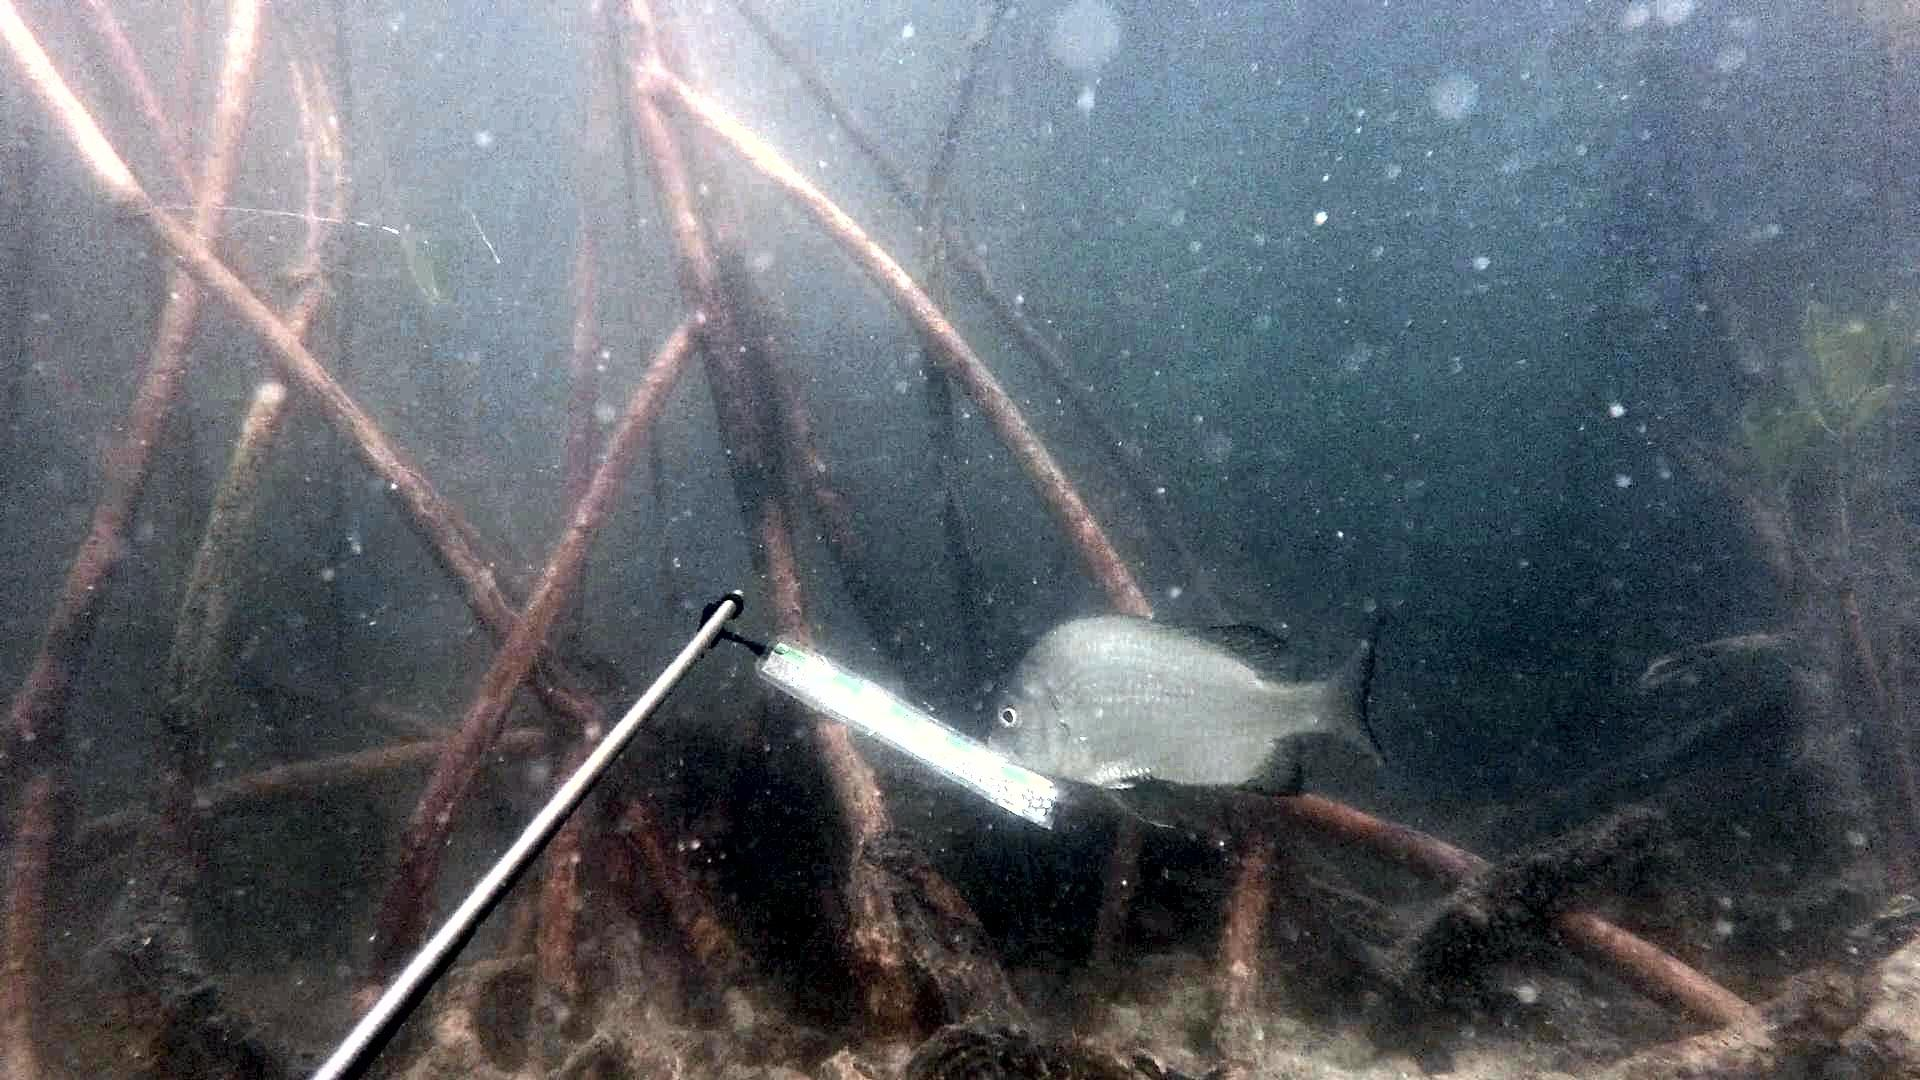acanthopagrus palmaris: (988, 601, 1416, 836)
